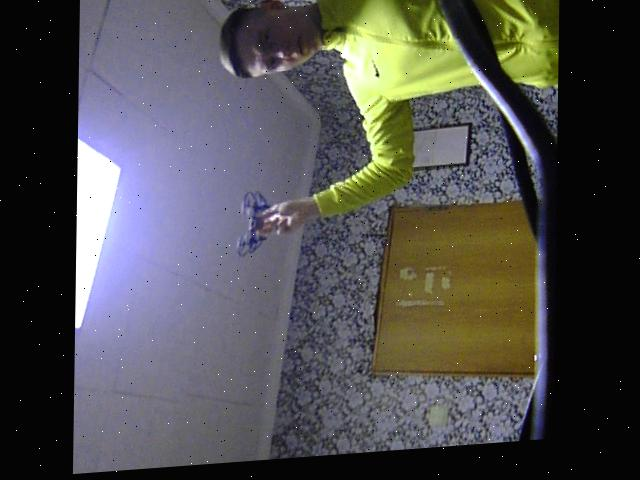drone: (225, 185, 281, 271)
